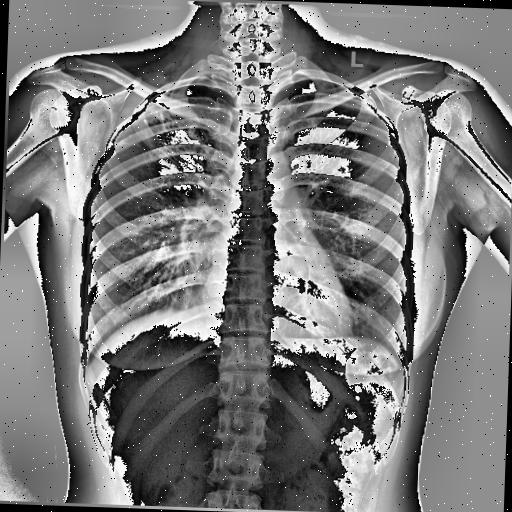13- Pulmonary fibrosis: (140, 107, 212, 185), (138, 97, 198, 167), (140, 104, 192, 166)
